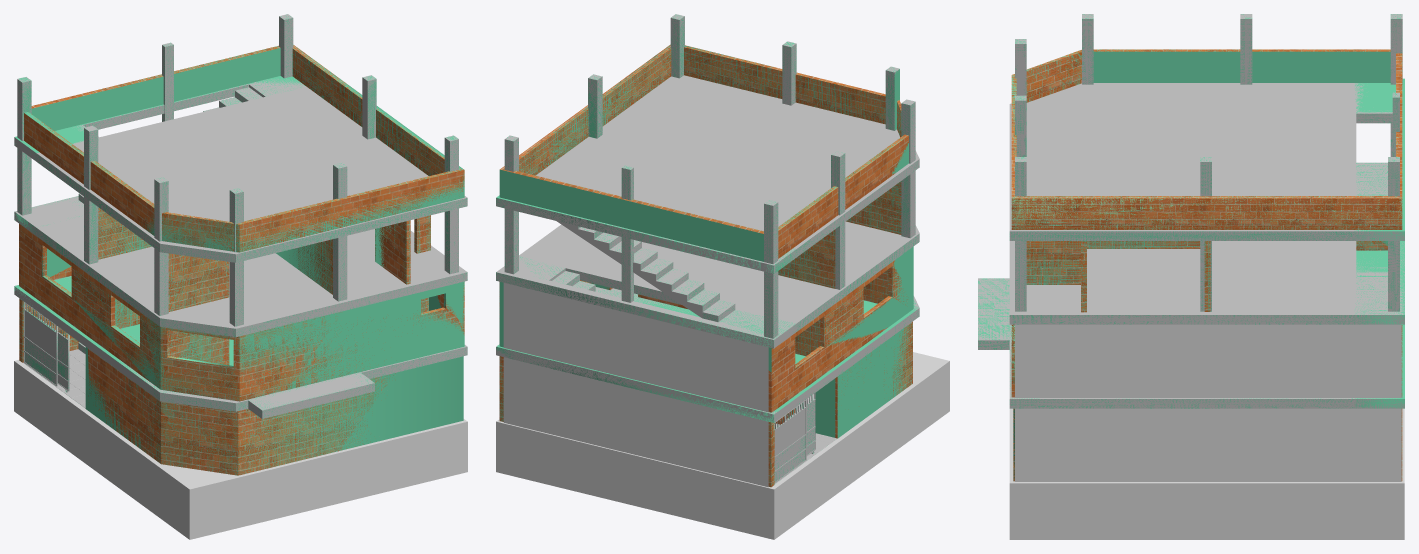
The model's file is CASA 23.fbx.
3 renders of one model, left to right at view 1: azimuth 30°, elevation 25°; view 2: azimuth 150°, elevation 25°; view 3: azimuth 270°, elevation 25°, orthographic. The views are drawn at different scales.
Visible parts, largest first — view 1: CASA23_LOD0, UTM_CASA23, Cube_LOD0; view 2: CASA23_LOD0, UTM_CASA23, OCC_Oclusion1, Cube_LOD0; view 3: CASA23_LOD0, OCC_Oclusion2, UTM_CASA23, Cube_LOD0.
Part boxes in pixels (<box>): CASA23_LOD0: <box>14,14,467,475</box>; UTM_CASA23: <box>14,14,467,475</box>; Cube_LOD0: <box>14,360,467,539</box>; CASA23_LOD0: <box>496,14,919,486</box>; UTM_CASA23: <box>496,14,919,486</box>; OCC_Oclusion1: <box>503,283,768,487</box>; Cube_LOD0: <box>496,352,949,539</box>; CASA23_LOD0: <box>978,14,1404,481</box>; OCC_Oclusion2: <box>1015,324,1401,481</box>; UTM_CASA23: <box>978,14,1404,480</box>; Cube_LOD0: <box>1009,408,1404,539</box>.
Size of what is drawn, in the model's own units: 1153 by 1319 by 1362.
